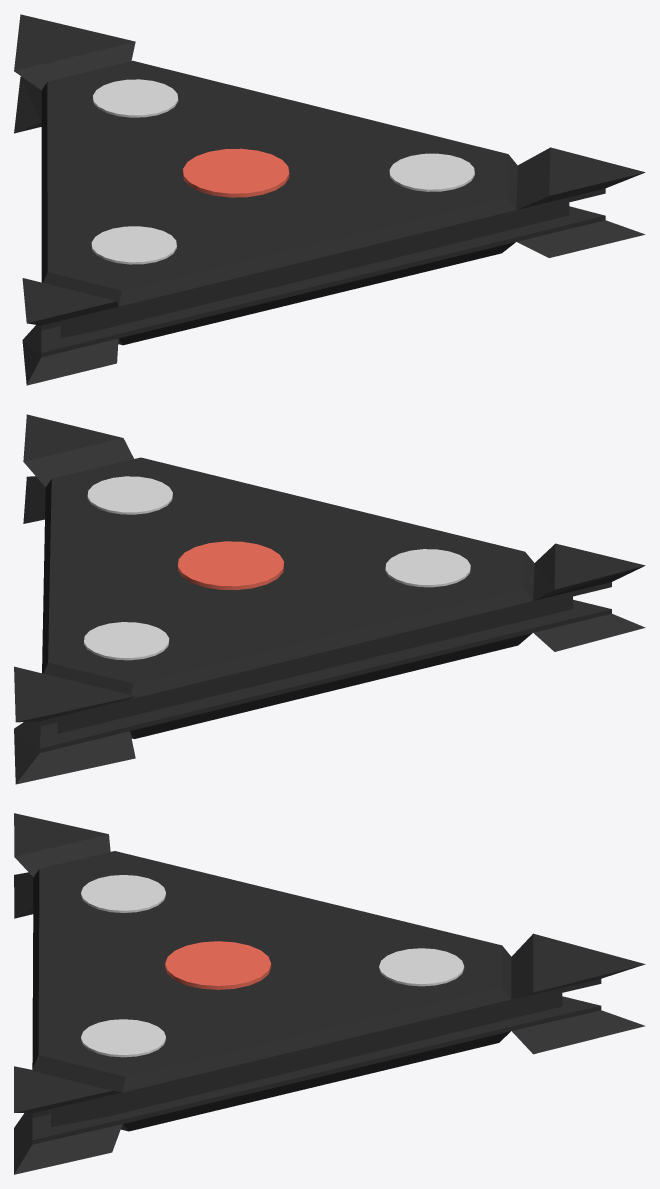
File: Triangle.fbx
3 renders of one model, top to bottom at view 1: azimuth 30°, elevation 25°; view 2: azimuth 150°, elevation 25°; view 3: azimuth 270°, elevation 25°, orthographic.
Parts seen in each view (by area): view 1: pPlane1, pCylinder1, pCylinder3, pCylinder4, pCylinder2; view 2: pPlane1, pCylinder1, pCylinder2, pCylinder3, pCylinder4; view 3: pPlane1, pCylinder1, pCylinder4, pCylinder2, pCylinder3.
Part boxes in pixels (bbox=[...]): pPlane1: bbox=[14, 14, 645, 385]; pCylinder1: bbox=[183, 148, 289, 197]; pCylinder3: bbox=[91, 226, 176, 264]; pCylinder4: bbox=[93, 79, 178, 117]; pCylinder2: bbox=[389, 153, 474, 191]; pPlane1: bbox=[14, 414, 645, 784]; pCylinder1: bbox=[178, 541, 283, 590]; pCylinder2: bbox=[87, 476, 172, 514]; pCylinder3: bbox=[385, 549, 470, 587]; pCylinder4: bbox=[84, 622, 169, 660]; pPlane1: bbox=[14, 813, 645, 1174]; pCylinder1: bbox=[165, 941, 271, 989]; pCylinder4: bbox=[379, 948, 464, 986]; pCylinder2: bbox=[81, 1019, 165, 1057]; pCylinder3: bbox=[81, 875, 165, 912].
Bounding box in the file's own units: 2.91 × 0.2941 × 2.59.
